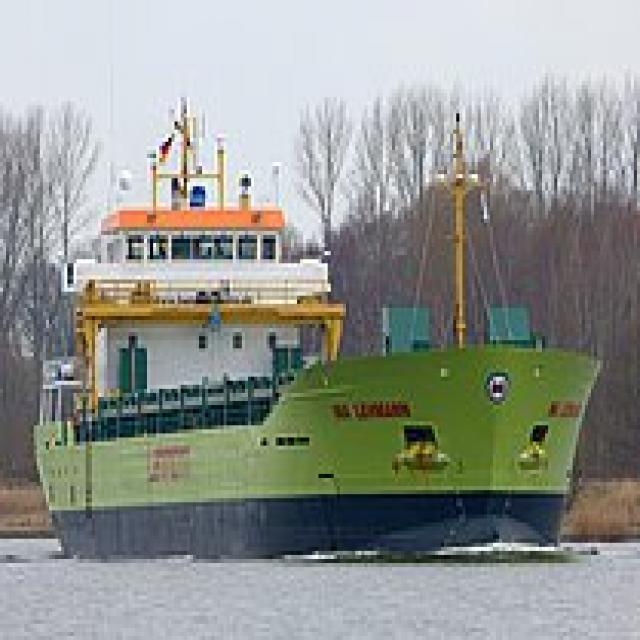Ship: (23, 78, 611, 564)
